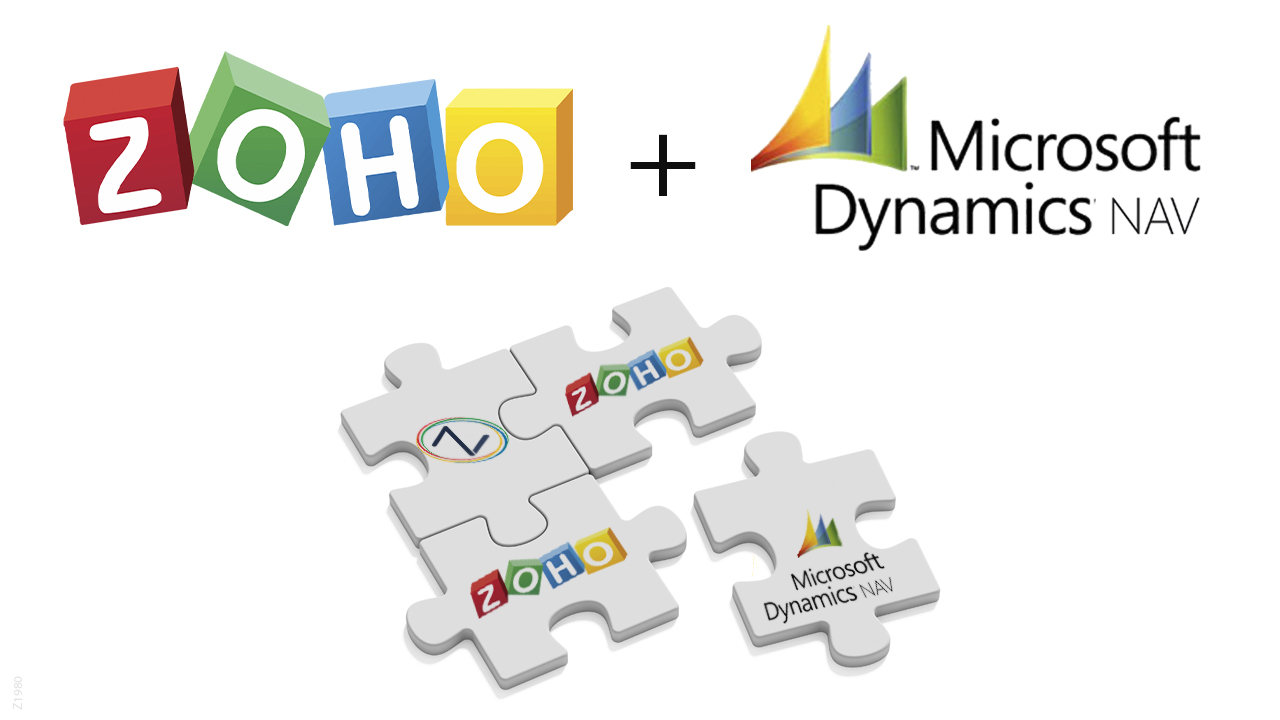zoho: (53, 50, 574, 227), (459, 525, 633, 620), (553, 336, 721, 413)
